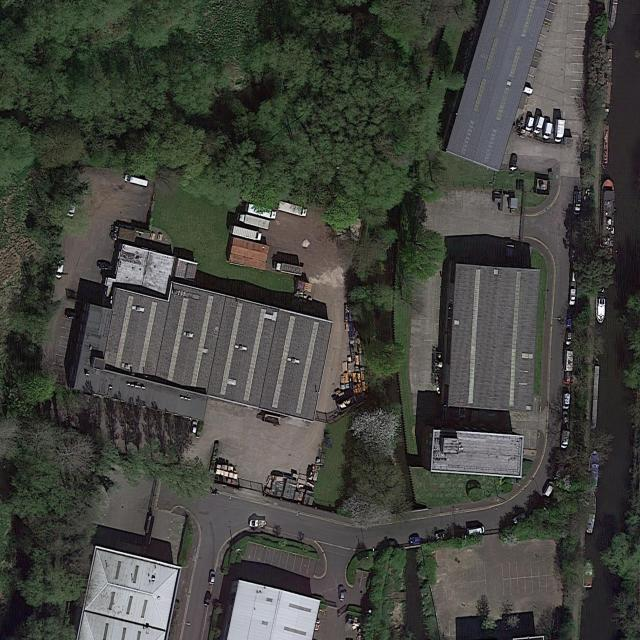large-vehicle: (229, 224, 263, 244), (236, 212, 271, 230), (245, 203, 277, 221), (278, 199, 308, 218), (273, 261, 304, 277), (553, 118, 565, 144), (124, 175, 149, 187), (563, 346, 574, 373), (533, 115, 545, 137), (560, 429, 571, 451), (542, 121, 553, 143), (542, 481, 555, 498), (466, 526, 485, 536), (249, 519, 267, 529), (525, 116, 535, 133), (563, 393, 570, 411)
ship: (599, 176, 616, 261), (600, 42, 615, 121), (590, 355, 601, 432), (595, 276, 608, 325), (584, 490, 597, 534), (588, 450, 599, 487), (601, 121, 609, 171), (583, 562, 593, 587)
small-vehicle: (573, 190, 583, 214), (511, 512, 527, 525), (509, 152, 519, 171), (66, 201, 77, 218), (96, 261, 113, 272), (65, 309, 80, 321), (435, 531, 449, 542), (55, 263, 64, 280), (519, 85, 534, 95), (204, 592, 212, 607), (570, 271, 577, 286), (338, 586, 345, 601), (209, 570, 216, 585), (567, 312, 574, 327), (570, 289, 576, 306), (190, 421, 197, 435), (564, 372, 571, 386), (408, 536, 420, 544), (566, 330, 572, 345), (562, 411, 569, 423)
